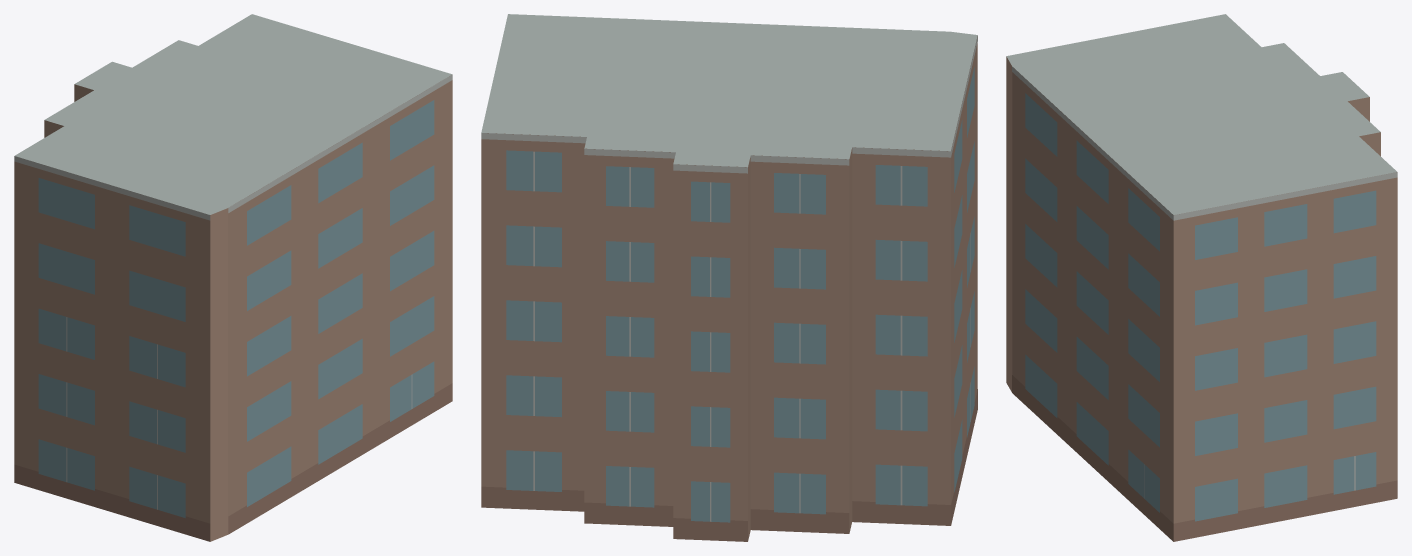
File: survey-upis-32932206.glb
3 renders of one model, left to right at view 1: azimuth 30°, elevation 25°; view 2: azimuth 150°, elevation 25°; view 3: azimuth 270°, elevation 25°, orthographic. The views are drawn at different scales.
Visible parts, largest first — view 1: survey-upis-32932206.tmp; view 2: survey-upis-32932206.tmp; view 3: survey-upis-32932206.tmp.
Boxes of the visible parts, bbox=[...] form: survey-upis-32932206.tmp: bbox=[14, 14, 452, 541]; survey-upis-32932206.tmp: bbox=[481, 14, 977, 541]; survey-upis-32932206.tmp: bbox=[1006, 14, 1397, 541].
Bounding box in the file's own units: 19.03 × 14.4 × 15.63.
